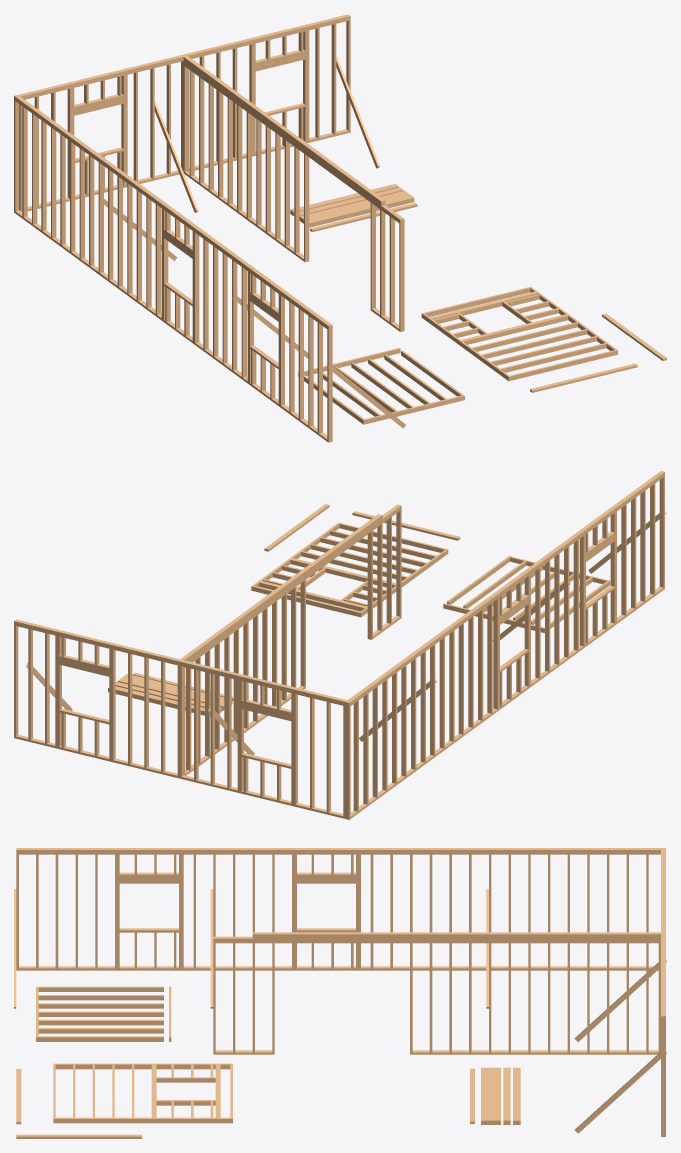
Rendered from Structural Wood Walls.dae.
3 views of the same model, one above another, from view 1: azimuth 30°, elevation 25°; view 2: azimuth 150°, elevation 25°; view 3: azimuth 270°, elevation 25° (orthographic). The views are drawn at different scales.
Parts seen in each view (by area): view 1: group_1 (×29), group_34 (×18), group_45 (×7), group_3, group_18 (×3), group_2, group_22, group_36, group_20, group_4, group_19, group_38 (+3 smaller); view 2: group_1 (×30), group_18 (×16), group_34 (×12), group_3, group_2, group_22, group_19, group_36, group_45 (×2), group_20, group_4, group_38 (+2 smaller); view 3: group_41 (×7), group_3, group_2, group_1 (×5), group_36, group_4, group_38, group_39, group_46, group_37, group_35, group_47 (+7 smaller).
Boxes of the visible parts, x1,y1,x2,y2 form: group_1 (×29): [14, 100, 332, 440]; group_34 (×18): [183, 66, 404, 329]; group_45 (×7): [424, 287, 615, 380]; group_3: [14, 95, 332, 328]; group_18 (×3): [121, 24, 336, 185]; group_2: [14, 210, 332, 442]; group_22: [18, 14, 350, 97]; group_36: [182, 54, 385, 203]; group_20: [23, 18, 350, 99]; group_4: [14, 98, 332, 330]; group_19: [21, 129, 350, 211]; group_38: [182, 61, 404, 221]; group_1 (×30): [345, 476, 664, 817]; group_18 (×16): [14, 625, 330, 812]; group_34 (×12): [186, 510, 401, 770]; group_3: [345, 471, 664, 704]; group_2: [345, 586, 664, 819]; group_22: [14, 619, 347, 703]; group_19: [14, 735, 345, 818]; group_36: [177, 514, 382, 663]; group_45 (×2): [259, 558, 396, 611]; group_20: [14, 623, 345, 705]; group_4: [345, 474, 664, 707]; group_38: [177, 504, 401, 668]; group_41 (×7): [38, 986, 163, 1041]; group_3: [16, 848, 665, 852]; group_2: [16, 966, 658, 970]; group_1 (×5): [55, 854, 360, 968]; group_36: [252, 932, 661, 936]; group_4: [16, 852, 660, 854]; group_38: [213, 936, 660, 940]; group_39: [213, 941, 660, 943]; group_46: [53, 1117, 232, 1123]; group_37: [252, 936, 660, 938]; group_35: [410, 1050, 659, 1054]; group_47: [53, 1063, 232, 1069].
Bounding box in the file's own units: 324 × 522 × 109.
